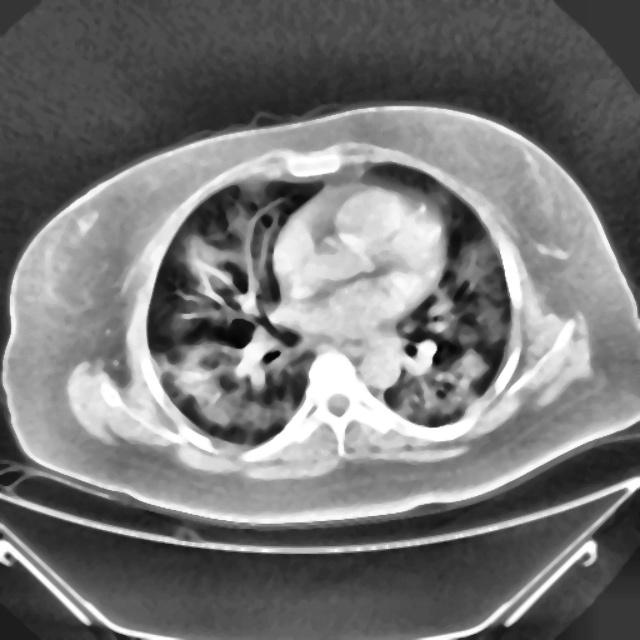covid: (2, 101, 638, 532)
